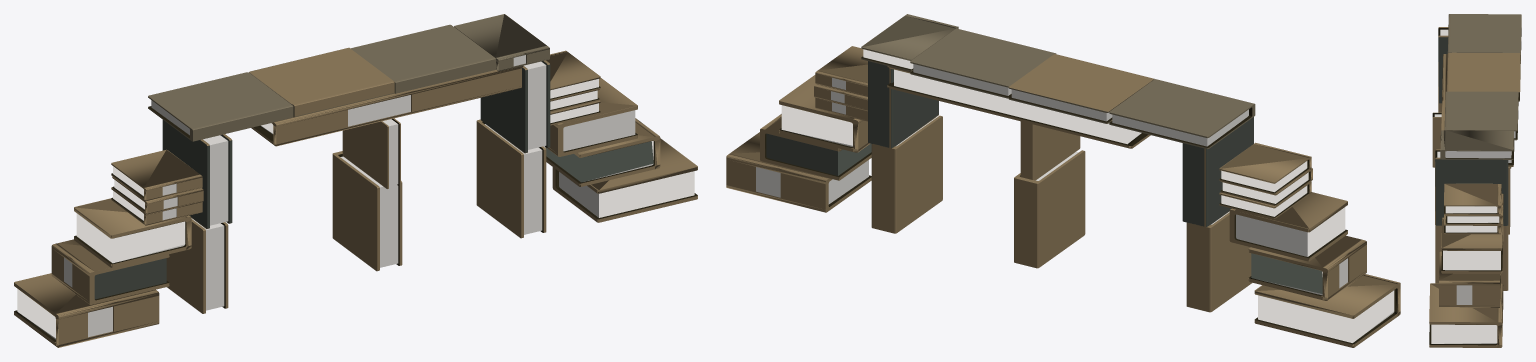
File: bridge.fbx
3 views of the same model, side by side, from view 1: azimuth 30°, elevation 25°; view 2: azimuth 150°, elevation 25°; view 3: azimuth 270°, elevation 25° (orthographic). The views are drawn at different scales.
Parts seen in each view (by area): view 1: BOOK_LABEL_7, BOOK_LABEL, Box002_19, Box002, Box002_4, Box002_18, Box002_17, BOOK_LABEL_8, BOOK_LABEL_2, BOOK_LABEL_1, Box002_2, Box002_5 (+11 smaller); view 2: BOOK_LABEL, Box002, Box002_19, Box002_4, Box002_18, Box002_17, BOOK_LABEL_2, BOOK_LABEL_8, BOOK_LABEL_7, Box002_2, BOOK_LABEL_1, Box002_3 (+11 smaller); view 3: BOOK_LABEL_8, Box002_17, Box002_18, Box002_19, BOOK_LABEL_10, Box002_5, BOOK_LABEL_6, BOOK_LABEL_9, BOOK_LABEL_13, Box002_4, BOOK_LABEL_12, BOOK_LABEL_11 (+4 smaller).
Part boxes in pixels (x1,y1,x2,y2): BOOK_LABEL_7: (251,66,523,146); BOOK_LABEL: (14,273,159,347); Box002_19: (148,72,293,141); Box002: (332,151,402,271); Box002_4: (476,119,546,238); Box002_18: (249,47,394,116); Box002_17: (351,24,495,93); BOOK_LABEL_8: (552,138,697,222); BOOK_LABEL_2: (74,198,191,267); BOOK_LABEL_1: (51,239,169,304); Box002_2: (166,218,228,313); Box002_5: (480,60,550,153); BOOK_LABEL: (1254,274,1400,347); Box002: (1014,150,1085,268); Box002_19: (1109,79,1255,149); Box002_4: (871,115,942,233); Box002_18: (1008,54,1154,123); Box002_17: (910,28,1056,98); BOOK_LABEL_2: (1229,192,1347,261); BOOK_LABEL_8: (726,132,871,212); BOOK_LABEL_7: (887,66,1150,148); Box002_2: (1186,211,1252,312); BOOK_LABEL_1: (1248,235,1366,300); Box002_3: (1182,117,1253,227); BOOK_LABEL_8: (1429,283,1503,347); Box002_17: (1444,91,1518,140); Box002_18: (1447,52,1520,101); Box002_19: (1447,14,1521,61); BOOK_LABEL_10: (1441,217,1503,273); Box002_5: (1435,149,1508,225); BOOK_LABEL_6: (1440,130,1513,159); BOOK_LABEL_9: (1439,251,1500,307); BOOK_LABEL_13: (1444,183,1501,214); Box002_4: (1435,225,1508,290); BOOK_LABEL_12: (1445,193,1503,224); BOOK_LABEL_11: (1444,214,1501,234).
Bounding box in the file's own units: 1269 × 346 × 203.
